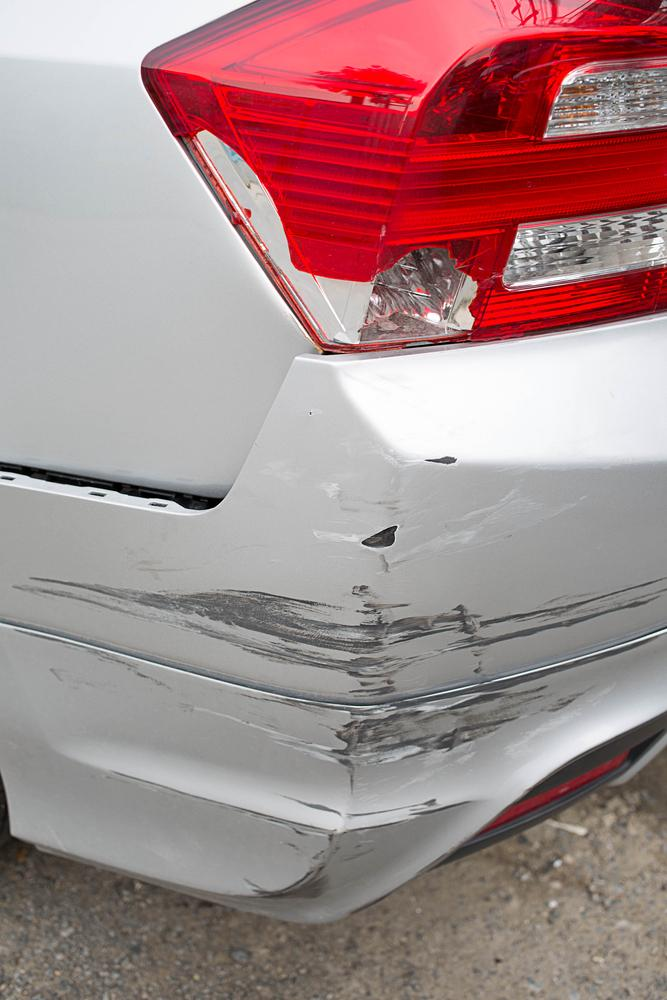lamp broken: (142, 0, 667, 352)
scratch: (0, 434, 667, 706), (83, 632, 664, 901)
